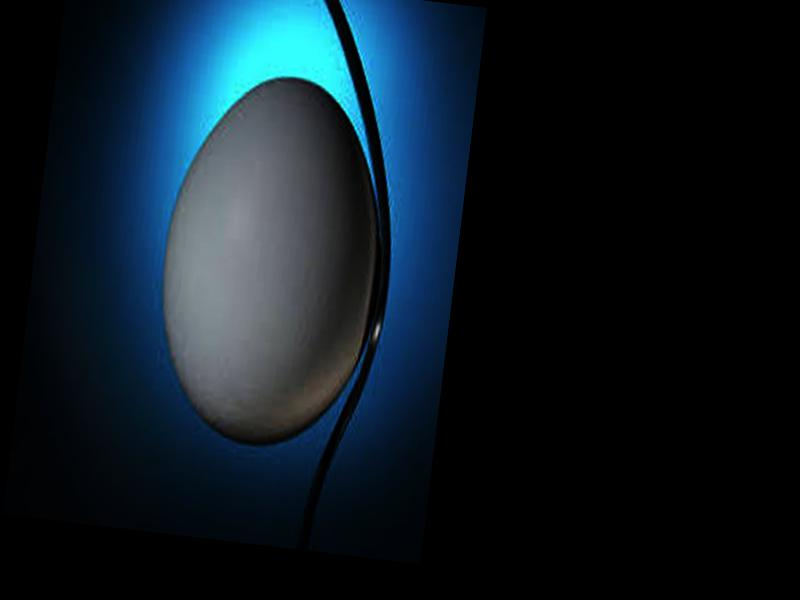Eggs: (146, 65, 398, 456)
